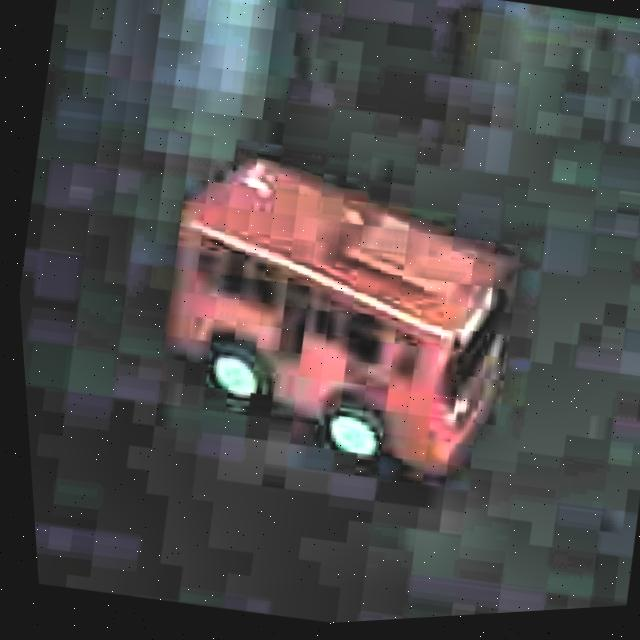bus: (119, 113, 555, 527)
